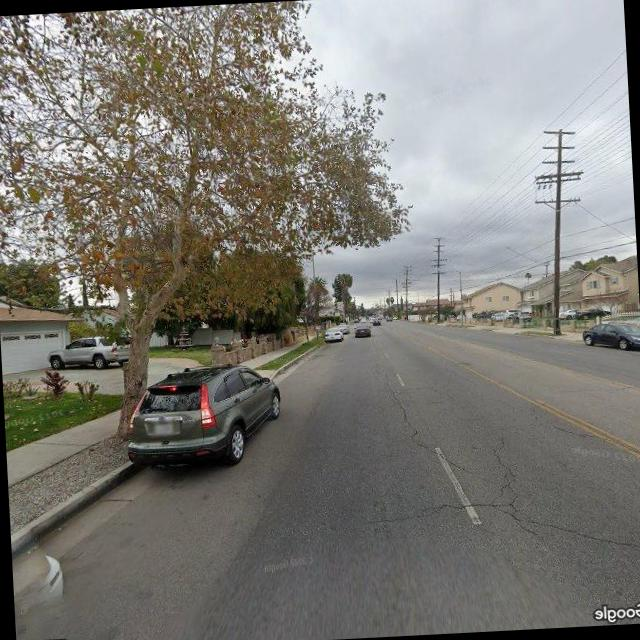crack: (361, 488, 640, 572), (386, 362, 508, 510)
